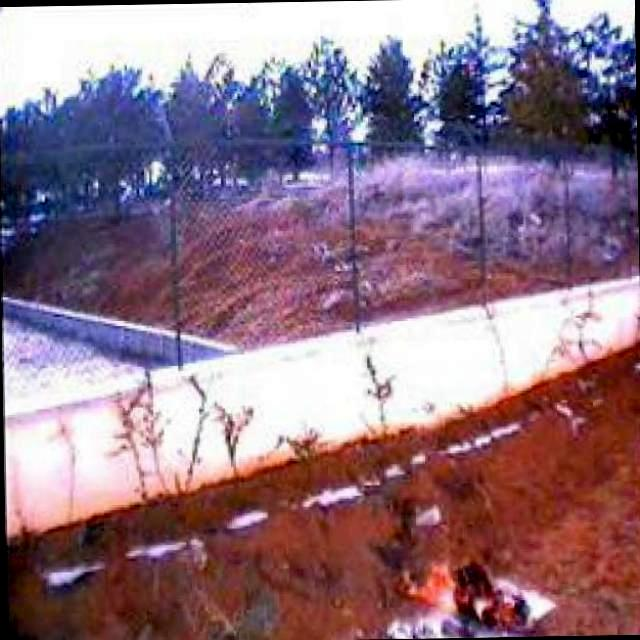fire: (394, 550, 532, 638)
